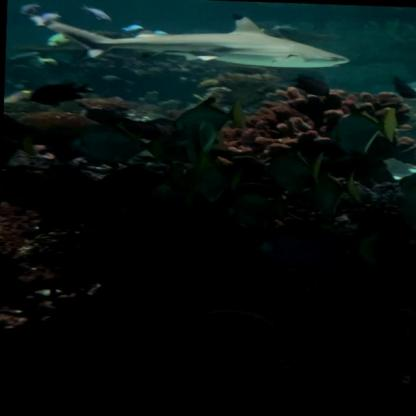fish: (2, 165, 130, 229), (280, 162, 400, 226), (240, 223, 376, 279), (256, 143, 378, 191), (124, 132, 234, 173), (112, 195, 186, 254), (159, 92, 261, 134), (42, 120, 150, 159), (322, 102, 395, 153), (167, 165, 255, 205), (28, 80, 94, 108), (290, 73, 332, 97), (390, 75, 416, 100), (46, 30, 74, 48), (20, 2, 40, 18), (271, 24, 300, 34), (86, 10, 112, 21), (119, 23, 144, 32)
shark: (20, 4, 351, 69)
